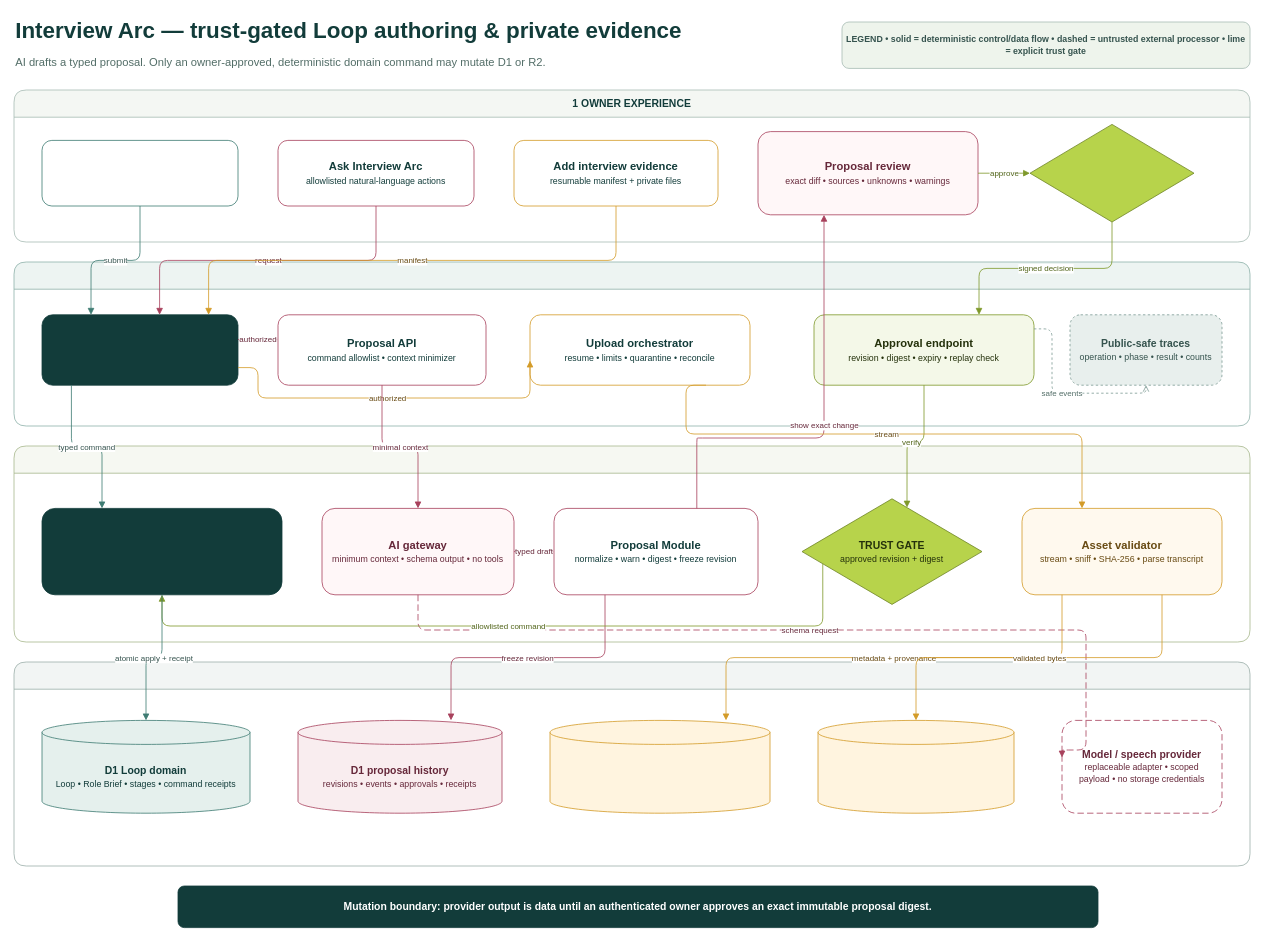
Image size: 1264x942. Some labels were removed from this diagram. The shapes that lost their labels are listed below. From the top down, each one's box as (x1, y1, x2, y2) in pixels, then its label:
(41, 140, 238, 206): Manual Add Loop structured fields + explicit unknowns
(1029, 124, 1194, 222): OWNER APPROVES EXACT DIGEST
(41, 314, 238, 385): Access identity & policy owner scope • CSRF • quotas
(13, 261, 1250, 426): 2 AUTHENTICATED WORKER / API
(41, 508, 282, 595): Domain Command Module validation • authorization • concurrency • idempotency
(13, 445, 1250, 642): 3 PROPOSAL + DOMAIN COMMAND MODULES
(13, 661, 1250, 866): 4 OWNER-PRIVATE STATE + REPLACEABLE PROVIDERS
(549, 720, 770, 813): D1 evidence authority packages • metadata • transcript revisions • links
(817, 720, 1014, 813): Private R2 objects source bytes • optional derived bodies
